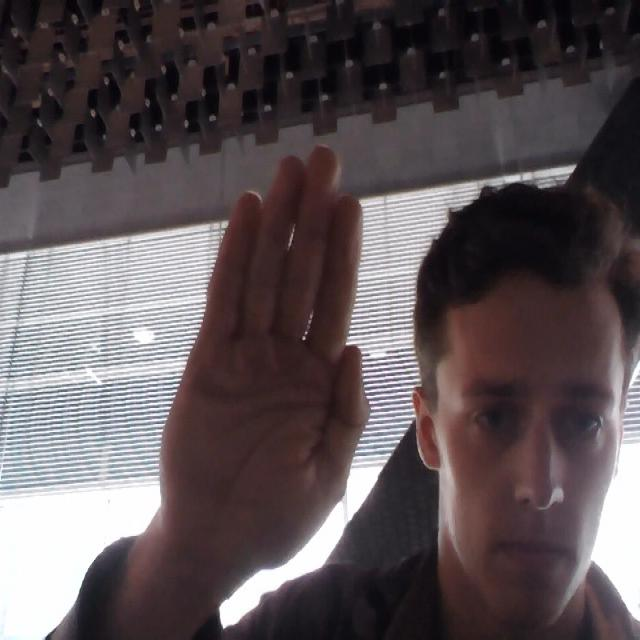backward: (174, 128, 380, 574)
